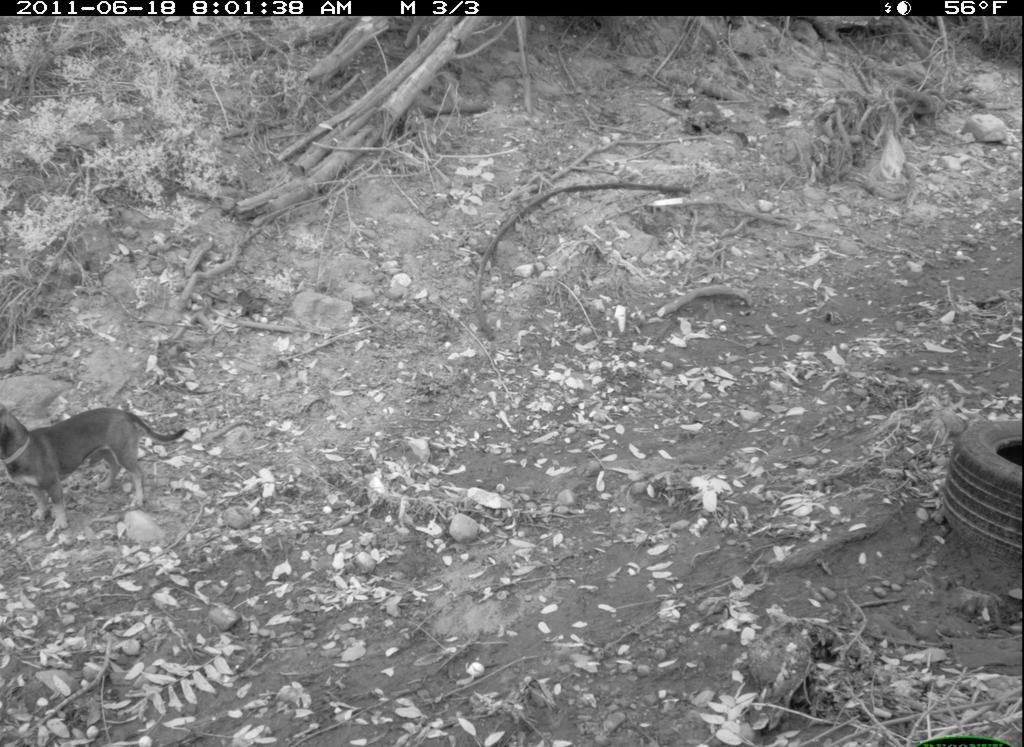dog: (6, 396, 200, 542)
